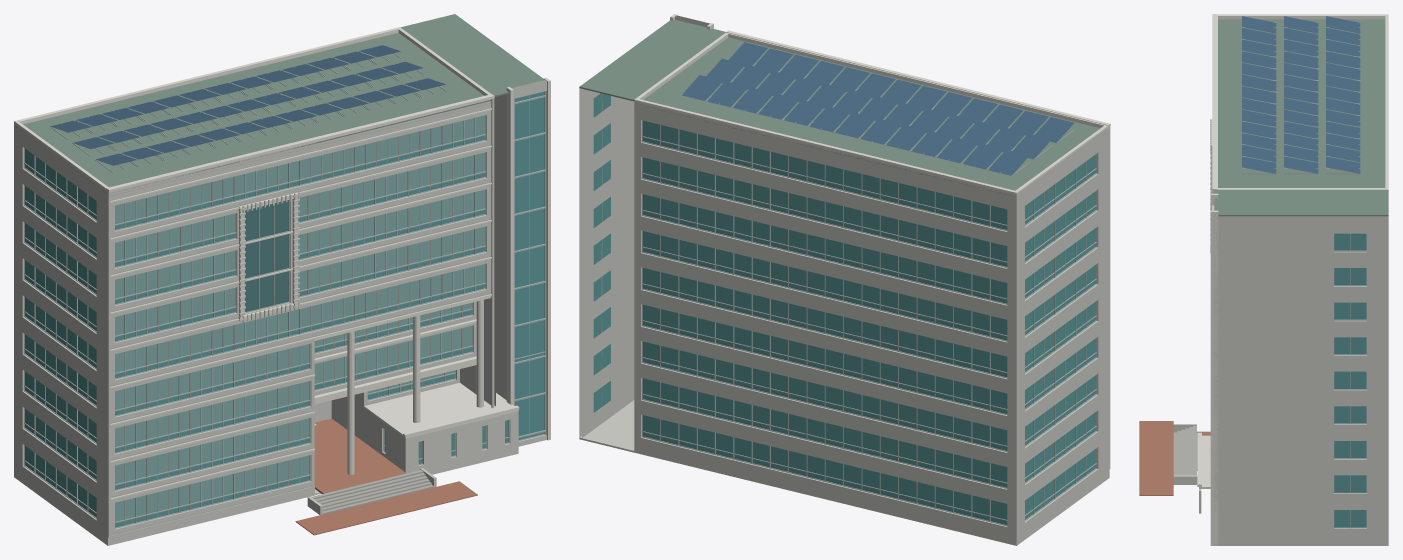
The picture shows the model from 3 angles, left to right: view 1: azimuth 30°, elevation 25°; view 2: azimuth 150°, elevation 25°; view 3: azimuth 270°, elevation 25°; orthographic projection. The views are drawn at different scales.
Parts seen in each view (by area): view 1: front-upper__window__upper-glass, front-upper__wall, main-roof-waterproof, west-estimated__wall, front-left__window__upper-glass, west-estimated__window__glass, roof-solar-panels, right-core-glass__window__glass, front-left__wall, front-upper__window__lower-glass, floor-band-nose, front-upper__window__mullion (+45 smaller); view 2: rear-estimated__window__glass, rear-estimated__wall, roof-solar-panels, west-estimated__wall, east-estimated__wall, west-estimated__window__glass, main-roof-waterproof, rear-estimated__window__mullion, rear-estimated__window__transom, rear-estimated__window__frame, rear-estimated__window__reveal, core-roof (+11 smaller); view 3: east-estimated__wall, roof-solar-panels, main-roof-waterproof, east-estimated__window__glass, core-roof, right-core-front-cheeks, entry-forecourt-brick, roof-parapet-sides, main-front-coping, roof-solar-frame, east-estimated__window__frame, roof-parapet-rear (+3 smaller).
Part boxes in pixels (x1,y1,x2,y2): front-upper__window__upper-glass: [115, 115, 485, 372]; front-upper__wall: [110, 101, 491, 386]; main-roof-waterproof: [15, 33, 491, 192]; west-estimated__wall: [14, 123, 107, 545]; front-left__window__upper-glass: [115, 344, 309, 521]; west-estimated__window__glass: [25, 149, 96, 517]; roof-solar-panels: [50, 45, 445, 165]; right-core-glass__window__glass: [514, 91, 544, 439]; front-left__wall: [110, 339, 314, 535]; front-upper__window__lower-glass: [115, 135, 485, 378]; floor-band-nose: [107, 108, 491, 499]; front-upper__window__mullion: [124, 117, 475, 376]; rear-estimated__window__glass: [643, 120, 1007, 525]; rear-estimated__wall: [634, 101, 1016, 545]; roof-solar-panels: [682, 42, 1074, 175]; west-estimated__wall: [1016, 128, 1109, 545]; east-estimated__wall: [579, 88, 634, 437]; west-estimated__window__glass: [1025, 154, 1095, 519]; main-roof-waterproof: [643, 37, 1100, 196]; rear-estimated__window__mullion: [660, 124, 990, 521]; rear-estimated__window__transom: [642, 136, 1007, 520]; rear-estimated__window__frame: [642, 120, 1007, 526]; rear-estimated__window__reveal: [641, 120, 1007, 526]; core-roof: [579, 19, 725, 101]; east-estimated__wall: [1214, 216, 1388, 545]; roof-solar-panels: [1242, 16, 1360, 173]; main-roof-waterproof: [1218, 19, 1385, 187]; east-estimated__window__glass: [1334, 233, 1366, 527]; core-roof: [1214, 190, 1388, 216]; right-core-front-cheeks: [1210, 193, 1218, 545]; entry-forecourt-brick: [1139, 421, 1173, 495]; roof-parapet-sides: [1215, 14, 1388, 189]; main-front-coping: [1212, 14, 1216, 191]; roof-solar-frame: [1242, 22, 1360, 174]; east-estimated__window__frame: [1334, 233, 1366, 528]; roof-parapet-rear: [1385, 14, 1388, 189].
Bounding box in the file's own units: 48.46 × 38.31 × 25.51.
